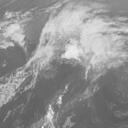cyclone: (39, 29, 92, 74)
